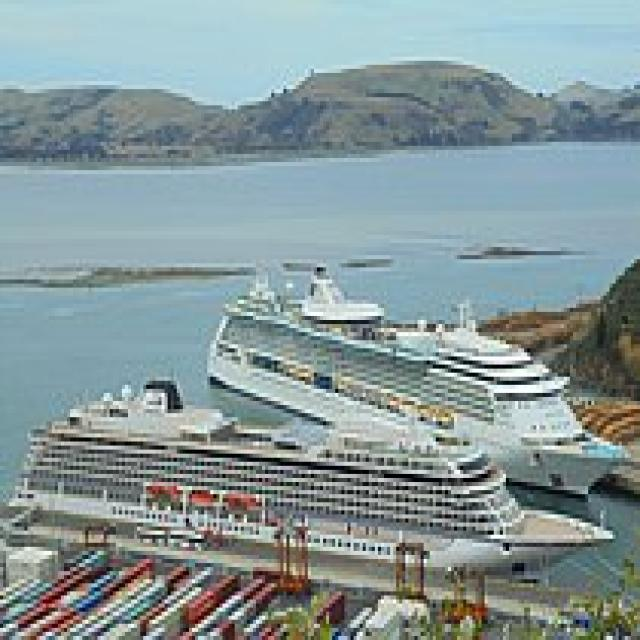Cruise: (6, 373, 616, 579), (201, 260, 628, 502)
